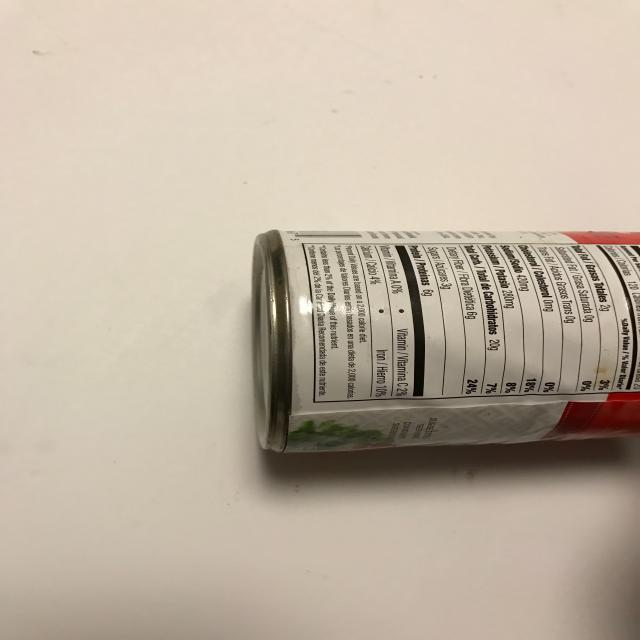metal: (249, 227, 640, 455)
